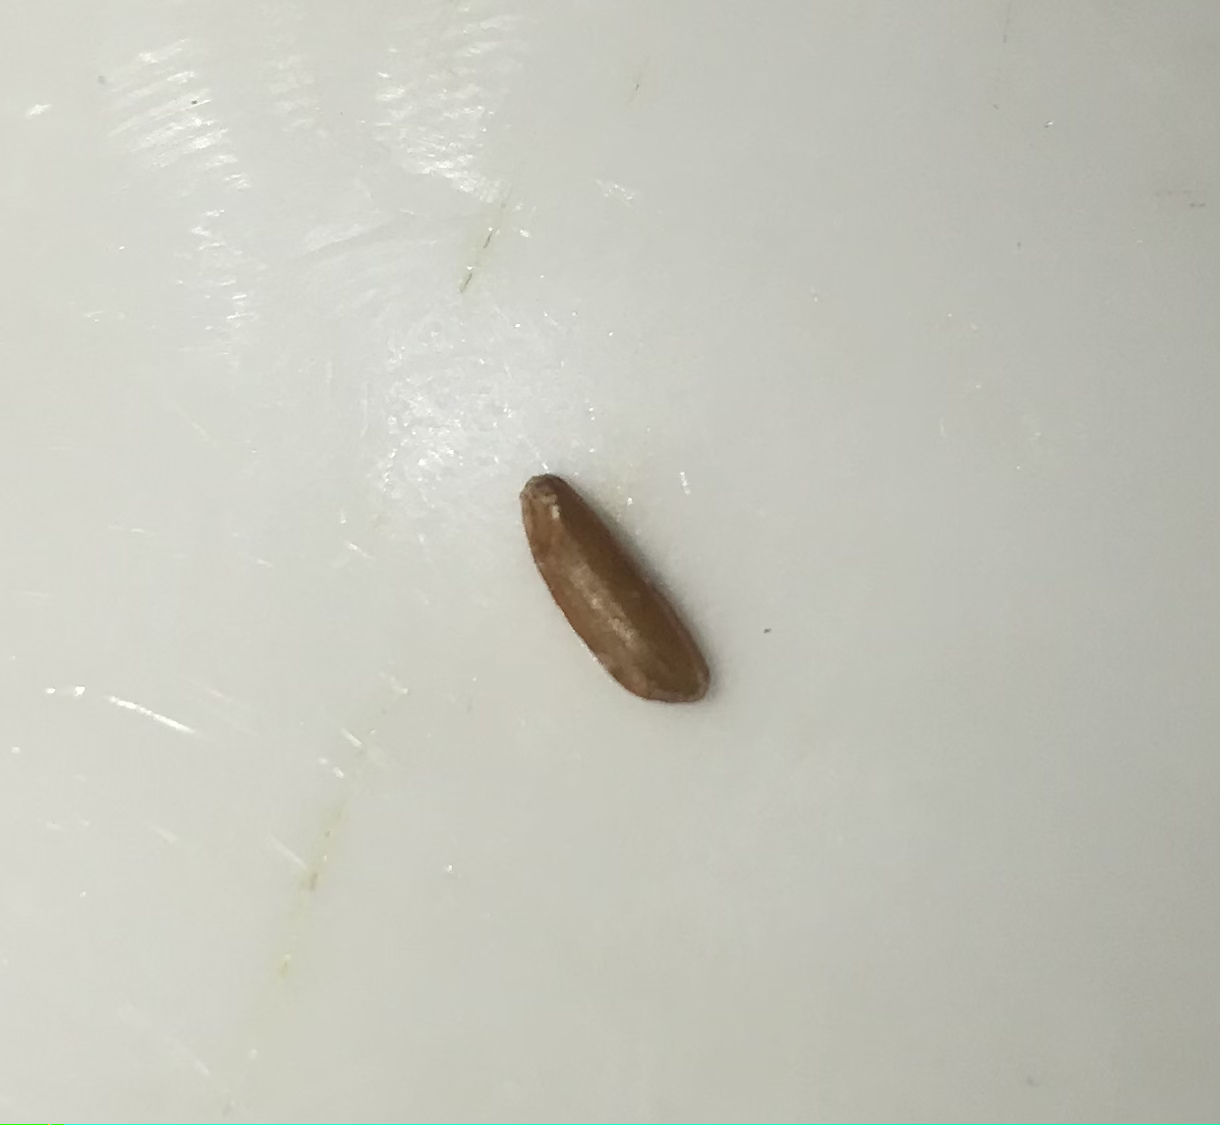Gao Lut Do: (506, 461, 717, 711)
